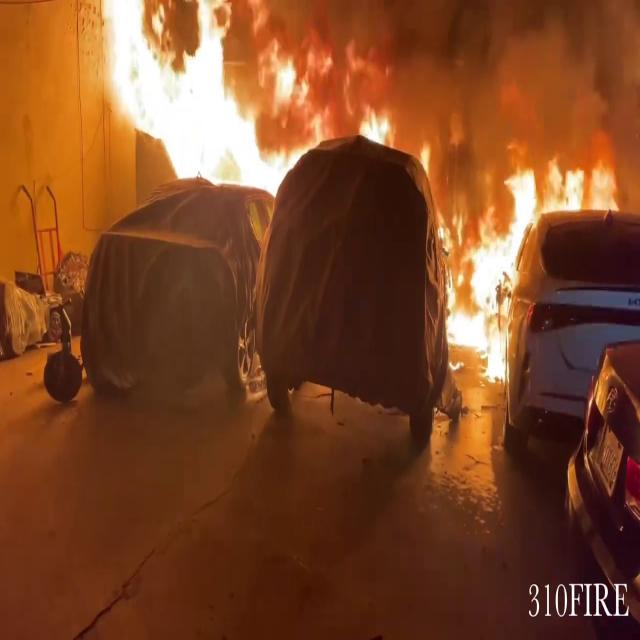Fire: (95, 0, 392, 207), (436, 140, 608, 383), (96, 0, 288, 204), (439, 154, 543, 382)
